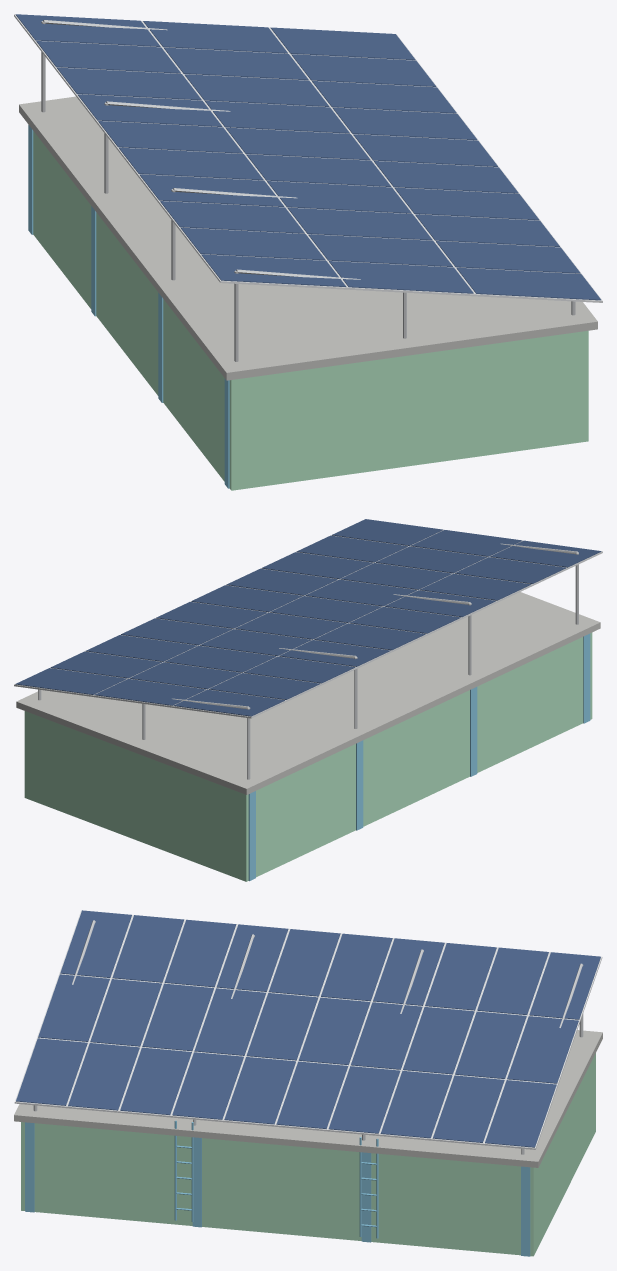
The model's file is rares_spis_tank.glb.
The picture shows the model from 3 angles, top to bottom: view 1: azimuth 30°, elevation 25°; view 2: azimuth 150°, elevation 25°; view 3: azimuth 270°, elevation 25°; orthographic projection. The views are drawn at different scales.
Parts seen in each view (by area): view 1: Solar_PV_Modules, Tank_Body, Tank_Top_Deck, Solar_Array_Frame, Tank_Solar_Truss, Tank_Pilasters_Ladders; view 2: Solar_PV_Modules, Tank_Body, Tank_Top_Deck, Solar_Array_Frame, Tank_Pilasters_Ladders, Tank_Solar_Truss; view 3: Solar_PV_Modules, Tank_Body, Tank_Top_Deck, Solar_Array_Frame, Tank_Pilasters_Ladders, Tank_Solar_Truss.
Part boxes in pixels (x1,y1,x2,y2): Solar_PV_Modules: [15, 14, 600, 300]; Tank_Body: [33, 131, 588, 490]; Tank_Top_Deck: [19, 96, 597, 380]; Solar_Array_Frame: [14, 14, 602, 302]; Tank_Solar_Truss: [41, 20, 575, 361]; Tank_Pilasters_Ladders: [28, 125, 229, 488]; Solar_PV_Modules: [15, 519, 601, 716]; Tank_Body: [24, 632, 592, 881]; Tank_Top_Deck: [16, 592, 600, 794]; Solar_Array_Frame: [14, 529, 602, 718]; Tank_Pilasters_Ladders: [248, 633, 590, 881]; Tank_Solar_Truss: [38, 543, 578, 779]; Solar_PV_Modules: [16, 910, 600, 1147]; Tank_Body: [21, 1053, 595, 1256]; Tank_Top_Deck: [14, 1030, 602, 1167]; Solar_Array_Frame: [14, 910, 602, 1149]; Tank_Pilasters_Ladders: [25, 1120, 530, 1256]; Tank_Solar_Truss: [33, 920, 583, 1154].
Bounding box in the file's own units: 9.91 × 4.41 × 13.72.
